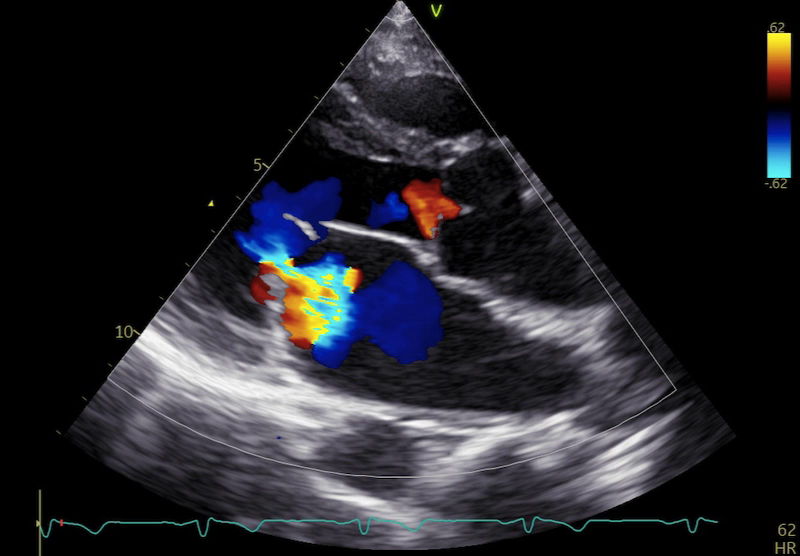MR: (260, 219, 345, 289)
